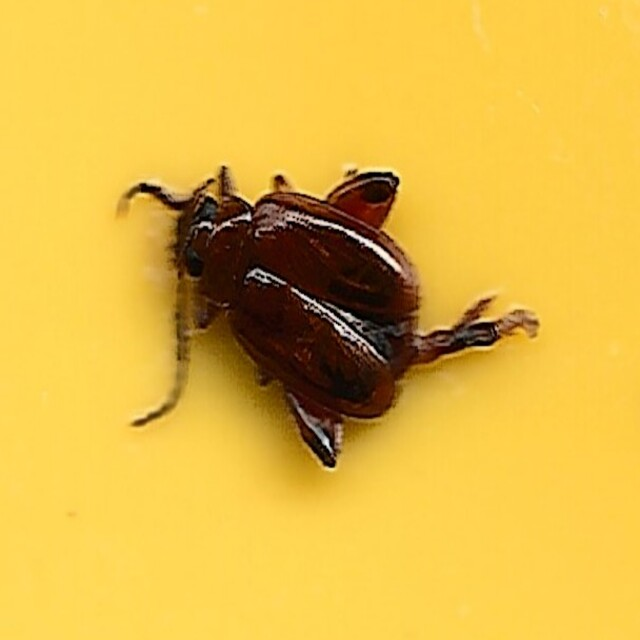Coleoptera: (105, 158, 535, 482)
